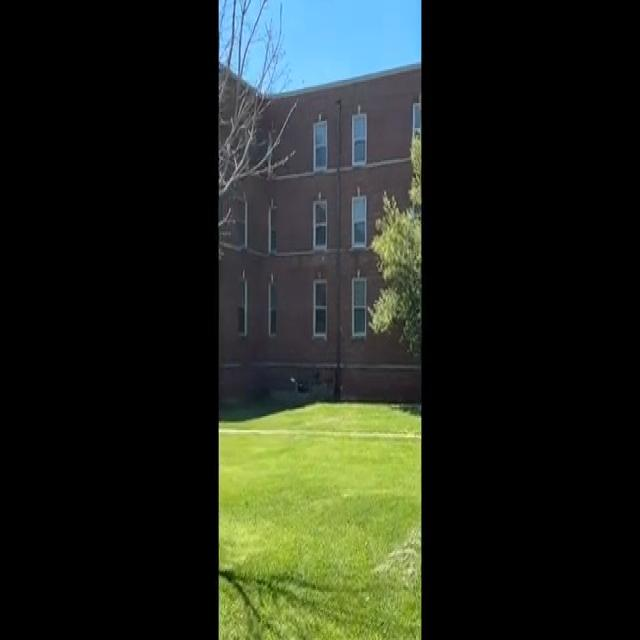drone: (290, 370, 302, 389)
